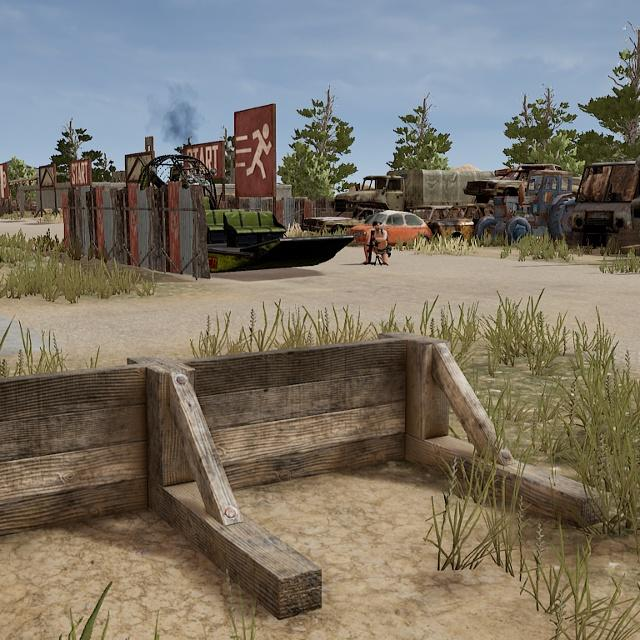head: (371, 220, 383, 233)
people: (365, 219, 391, 264)
